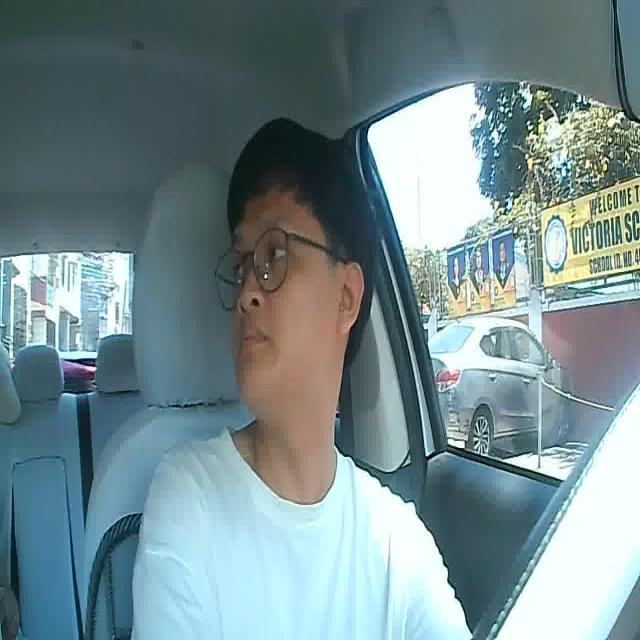Eye-Open: (268, 240, 291, 264), (232, 260, 248, 283)
Inattentive: (226, 114, 380, 413)
Normal: (237, 321, 270, 357)
